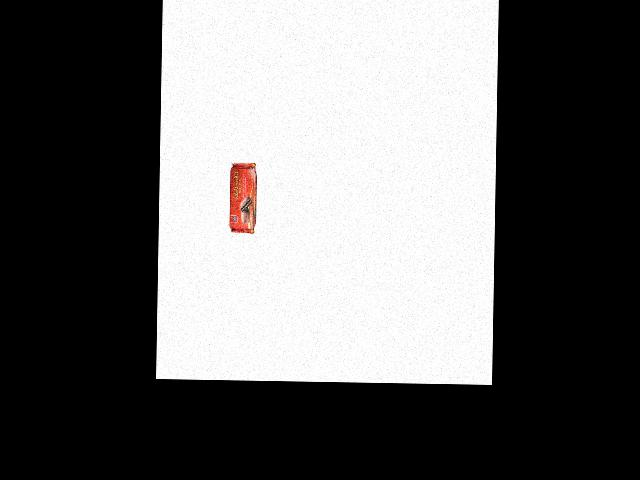chocolate: (228, 161, 263, 235)
